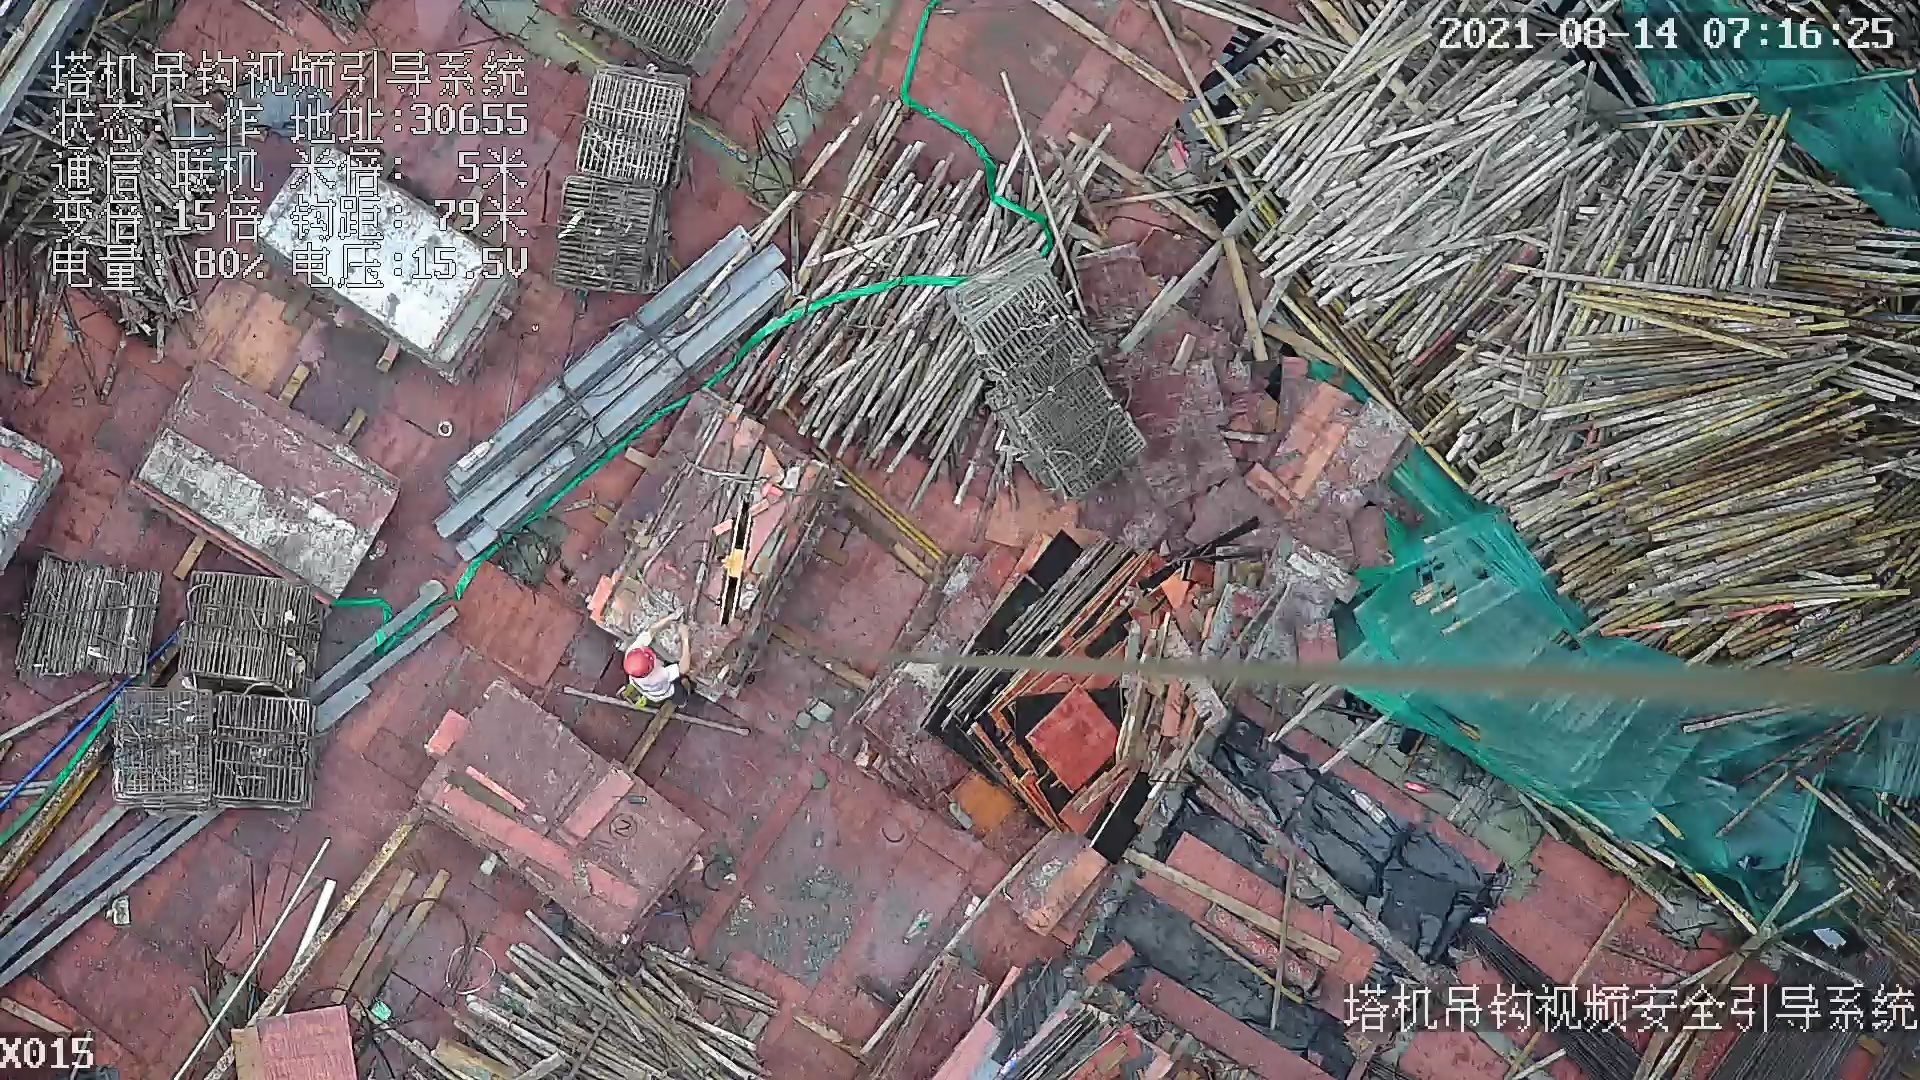helmet: (621, 642, 656, 680)
hook: (713, 497, 751, 632)
person: (633, 600, 692, 705)
